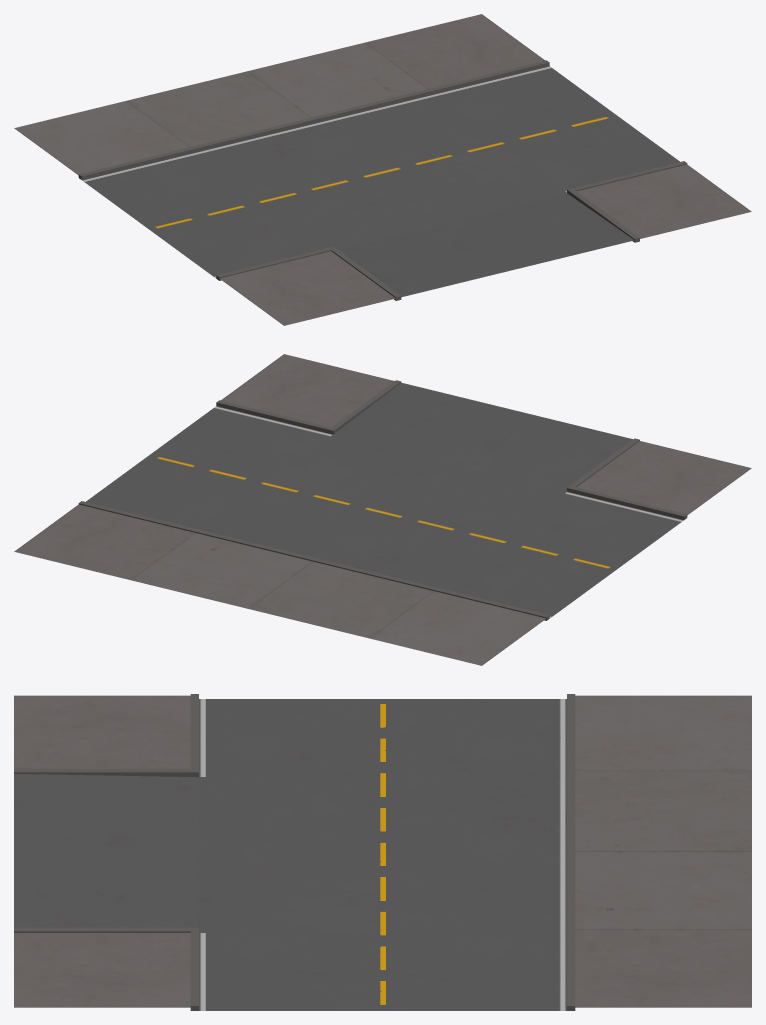
The model's file is SM_Floor_Road_09_UP.fbx.
3 views of the same model, one above another, from view 1: azimuth 30°, elevation 25°; view 2: azimuth 150°, elevation 25°; view 3: azimuth 270°, elevation 25° (orthographic). The views are drawn at different scales.
Parts seen in each view (by area): view 1: SM_Floor_Road_09_UP; view 2: SM_Floor_Road_09_UP; view 3: SM_Floor_Road_09_UP.
Boxes of the visible parts, x1,y1,x2,y2 form: SM_Floor_Road_09_UP: (14, 14, 751, 325); SM_Floor_Road_09_UP: (14, 354, 751, 665); SM_Floor_Road_09_UP: (14, 694, 751, 1010).
Bounding box in the file's own units: 10 × 0.075 × 10.
